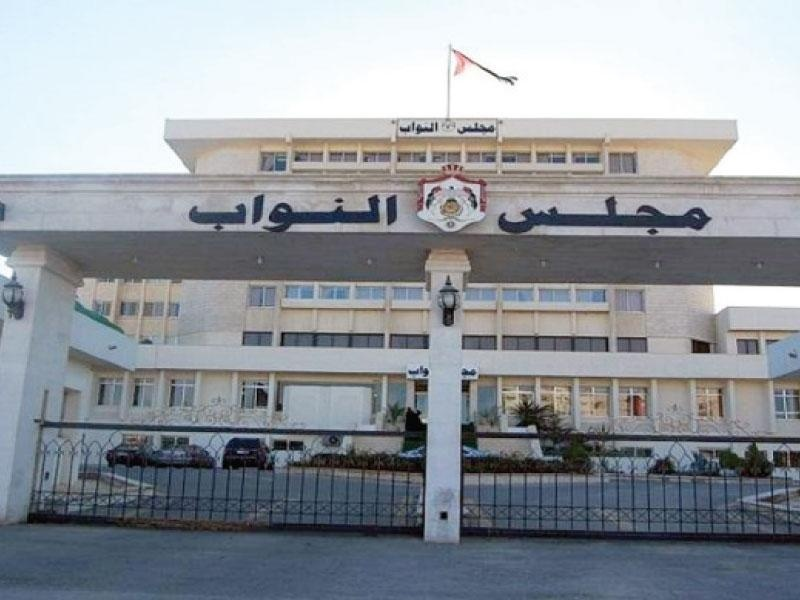text: (193, 191, 208, 236), (209, 191, 224, 236), (225, 191, 240, 236), (241, 191, 256, 236), (257, 191, 272, 236), (273, 191, 288, 236), (289, 191, 304, 236), (305, 191, 320, 236), (321, 191, 336, 236), (337, 191, 352, 236), (353, 191, 368, 236), (369, 191, 384, 236), (385, 191, 400, 236), (497, 194, 512, 237), (513, 194, 528, 237), (529, 194, 544, 237), (545, 194, 560, 237), (561, 194, 576, 237), (577, 194, 592, 237), (593, 194, 608, 237), (609, 194, 624, 237), (625, 194, 640, 237), (641, 194, 656, 237), (657, 194, 672, 237), (673, 194, 688, 237), (689, 194, 704, 237), (185, 191, 192, 236), (705, 194, 712, 237), (401, 121, 416, 137), (417, 121, 432, 137), (481, 122, 497, 137), (465, 122, 480, 137), (465, 365, 479, 380), (417, 365, 431, 380), (433, 121, 442, 137), (456, 122, 464, 137), (408, 365, 416, 380), (460, 365, 464, 380), (401, 191, 402, 236), (495, 194, 496, 237), (399, 121, 400, 137)
